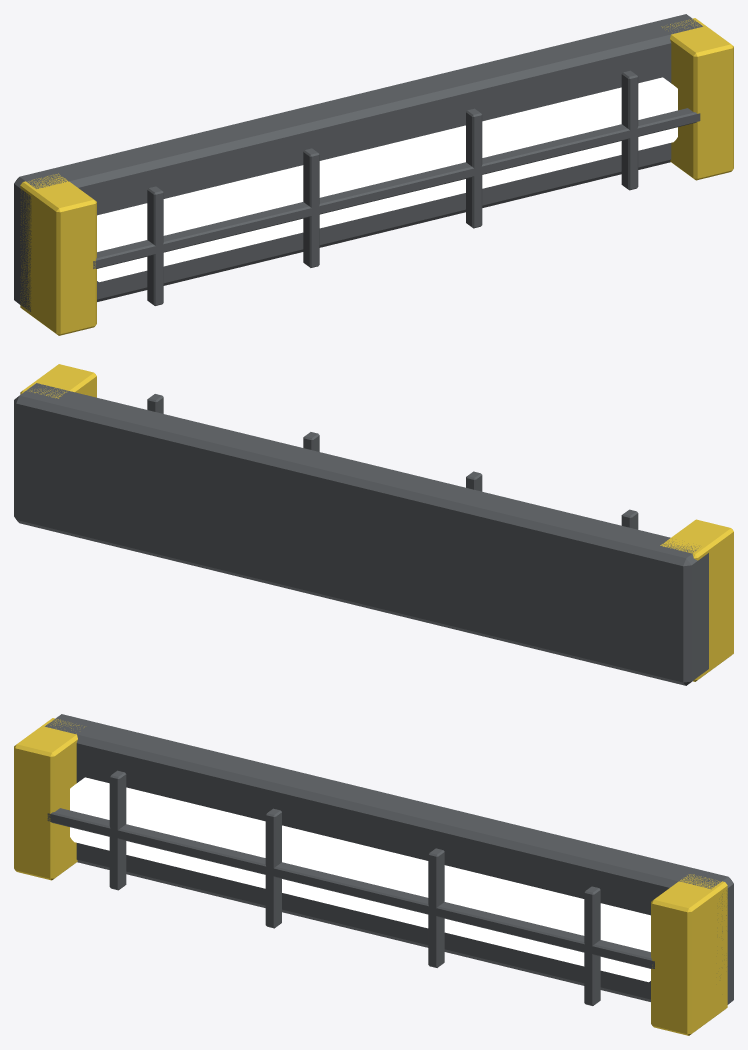
Rendered from wall_light_strip.glb.
3 views of the same model, one above another, from view 1: azimuth 30°, elevation 25°; view 2: azimuth 150°, elevation 25°; view 3: azimuth 330°, elevation 25° (orthographic).
Visible parts, largest first — view 1: wall_light_strip; view 2: wall_light_strip; view 3: wall_light_strip.
Boxes of the visible parts, x1,y1,x2,y2 form: wall_light_strip: (14, 14, 733, 335); wall_light_strip: (14, 364, 733, 685); wall_light_strip: (14, 714, 733, 1035).
Bounding box in the file's own units: 1 × 0.18 × 0.12.
